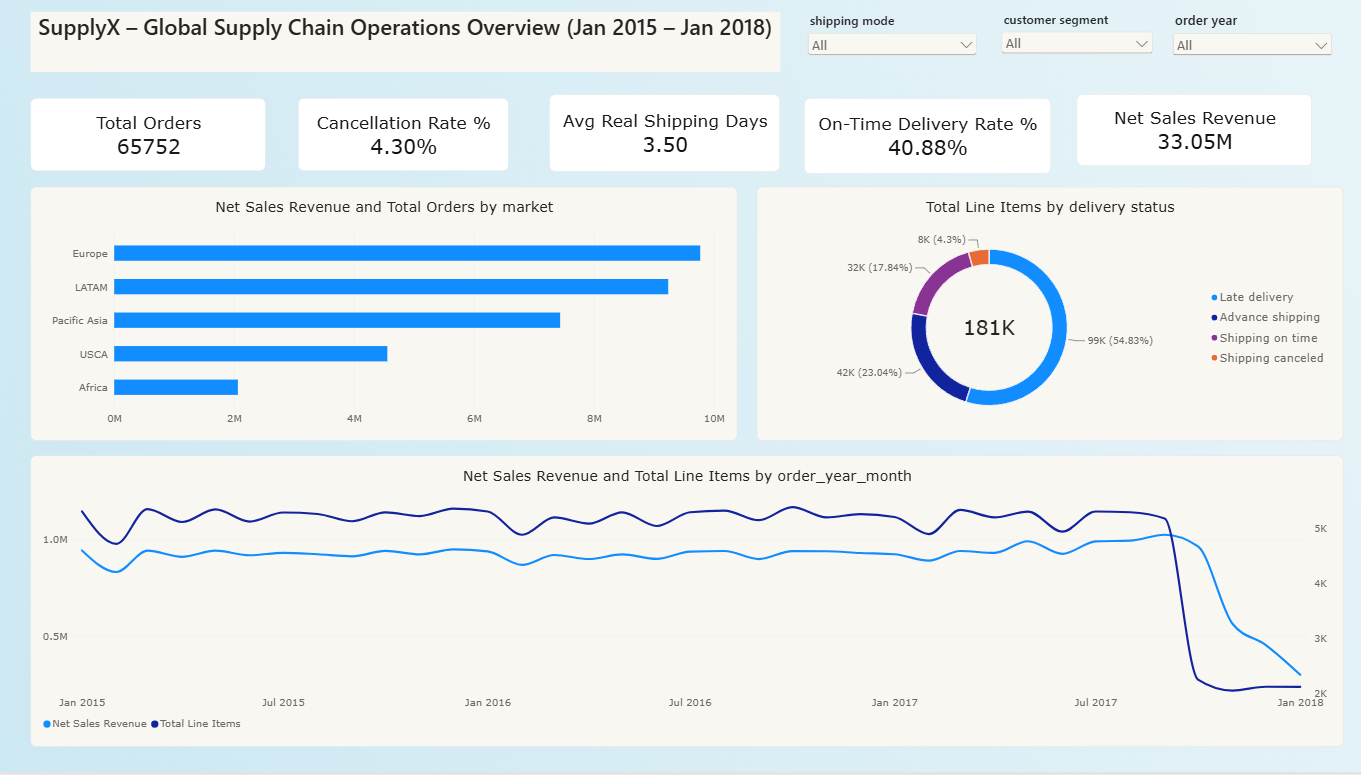

Layout of this report page (visuals, bound fields, positions):
{"tool":"powerbi","page":{"name":"Page 1","canvas":[1920,1080],"ordinal":0},"visuals":[{"type":"cardVisual","fields":{"Data":["_measure.Total Orders"]},"box":[52,140,328,102],"z":0},{"type":"cardVisual","fields":{"Data":["_measure.Cancellation Rate %"]},"box":[426,140,294,102],"z":1000},{"type":"cardVisual","fields":{"Data":["_measure.Avg Real Shipping Days"]},"box":[776,134,322,108],"z":2000},{"type":"cardVisual","fields":{"Data":["_measure.On-Time Delivery Rate %"]},"box":[1132,140,344,106],"z":3000},{"type":"cardVisual","fields":{"Data":["_measure.Net Sales Revenue"]},"box":[1512,134,328,100],"z":4000},{"type":"clusteredBarChart","fields":{"Category":["fact_order_items.market"],"Y":["_measure.Net Sales Revenue"]},"box":[52,264,986,354],"z":5000},{"type":"donutChart","title":"Total Line Items by delivery status","fields":{"Category":["fact_order_items.delivery_status"],"Y":["_measure.Total Line Items"]},"box":[1066,264,818,354],"z":6000},{"type":"lineChart","fields":{"Category":["fact_order_items.order_year_month"],"Y":["_measure.Net Sales Revenue"],"Y2":["_measure.Total Line Items"]},"box":[52,638,1832,406],"z":7000},{"type":"slicer","fields":{"Values":["fact_order_items.shipping_mode"]},"box":[1132,20,246,120],"z":8000},{"type":"slicer","fields":{"Values":["fact_order_items.customer_segment"]},"box":[1402,18,220.7,100.6],"z":9000},{"type":"slicer","fields":{"Values":["fact_order_items.order_year"]},"box":[1642,18,232,122],"z":10000},{"type":"textbox","title":"SupplyX – Global Supply Chain Operations Overview (Jan 2015 – Jan 2018)","box":[52,20,1046,84],"z":11000}]}

Visuals, with their boxes in screenshot pixels (x1, y1, x2, y2), scaled from the page's 1920x1080 canvas onto the 1361x775 screenshot:
cardVisual - _measure.Total Orders: box(37, 100, 269, 174)
cardVisual - _measure.Cancellation Rate %: box(302, 100, 510, 174)
cardVisual - _measure.Avg Real Shipping Days: box(550, 96, 778, 174)
cardVisual - _measure.On-Time Delivery Rate %: box(802, 100, 1046, 177)
cardVisual - _measure.Net Sales Revenue: box(1072, 96, 1304, 168)
clusteredBarChart - fact_order_items.market x _measure.Net Sales Revenue: box(37, 189, 736, 443)
"Total Line Items by delivery status" donutChart: box(756, 189, 1335, 443)
lineChart - fact_order_items.order_year_month x _measure.Net Sales Revenue: box(37, 458, 1335, 749)
slicer - fact_order_items.shipping_mode: box(802, 14, 977, 100)
slicer - fact_order_items.customer_segment: box(994, 13, 1150, 85)
slicer - fact_order_items.order_year: box(1164, 13, 1328, 100)
"SupplyX – Global Supply Chain Operations Overview (Jan 2015 – Jan 2018)" textbox: box(37, 14, 778, 75)
